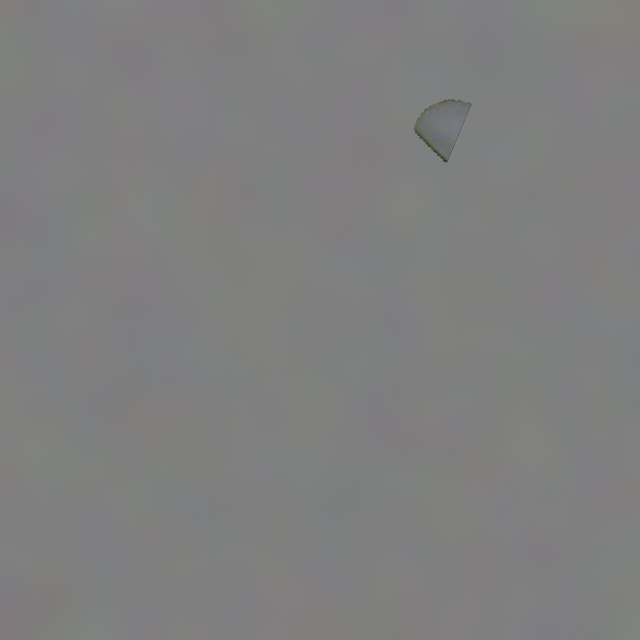frangipani: (414, 99, 470, 161)
